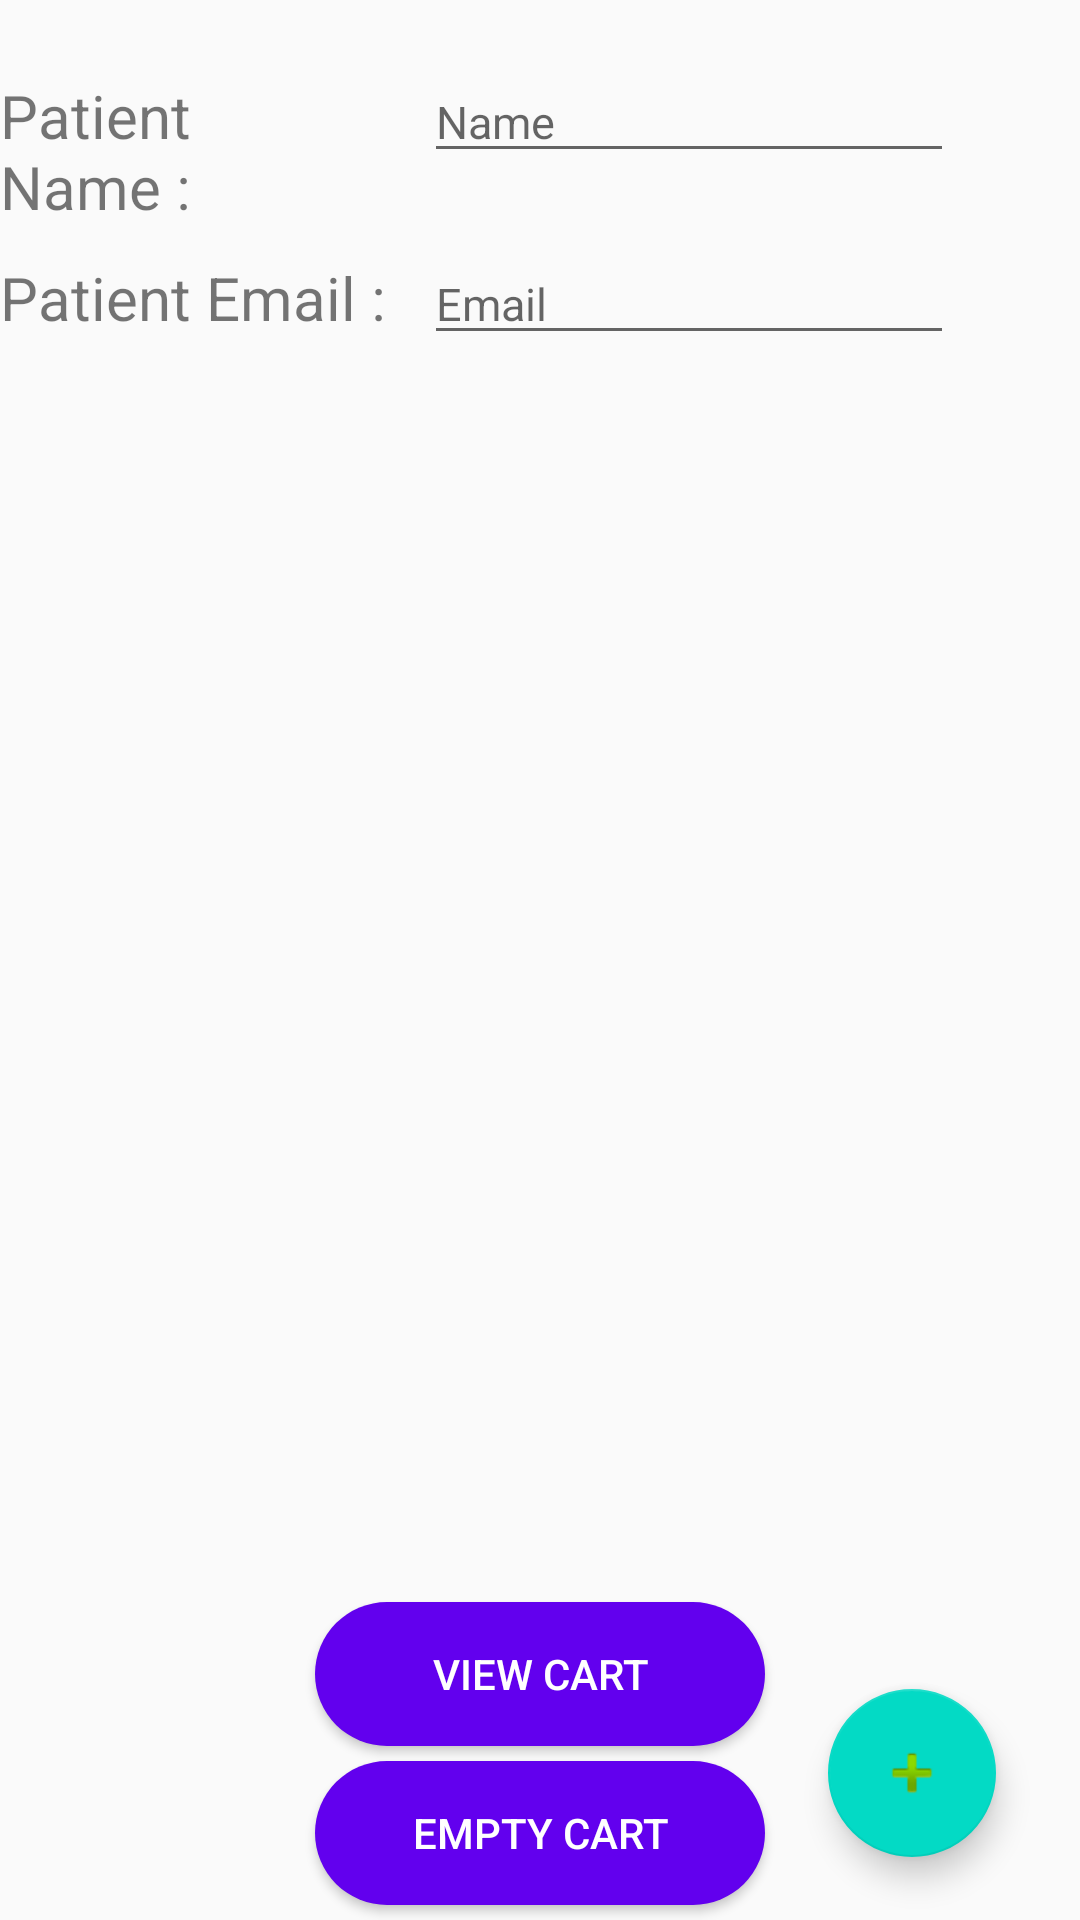

Where icons sit on this 1080w x 1920h app screen, as (x1, y1, x2, y2):
add: (828, 1689, 996, 1857)
